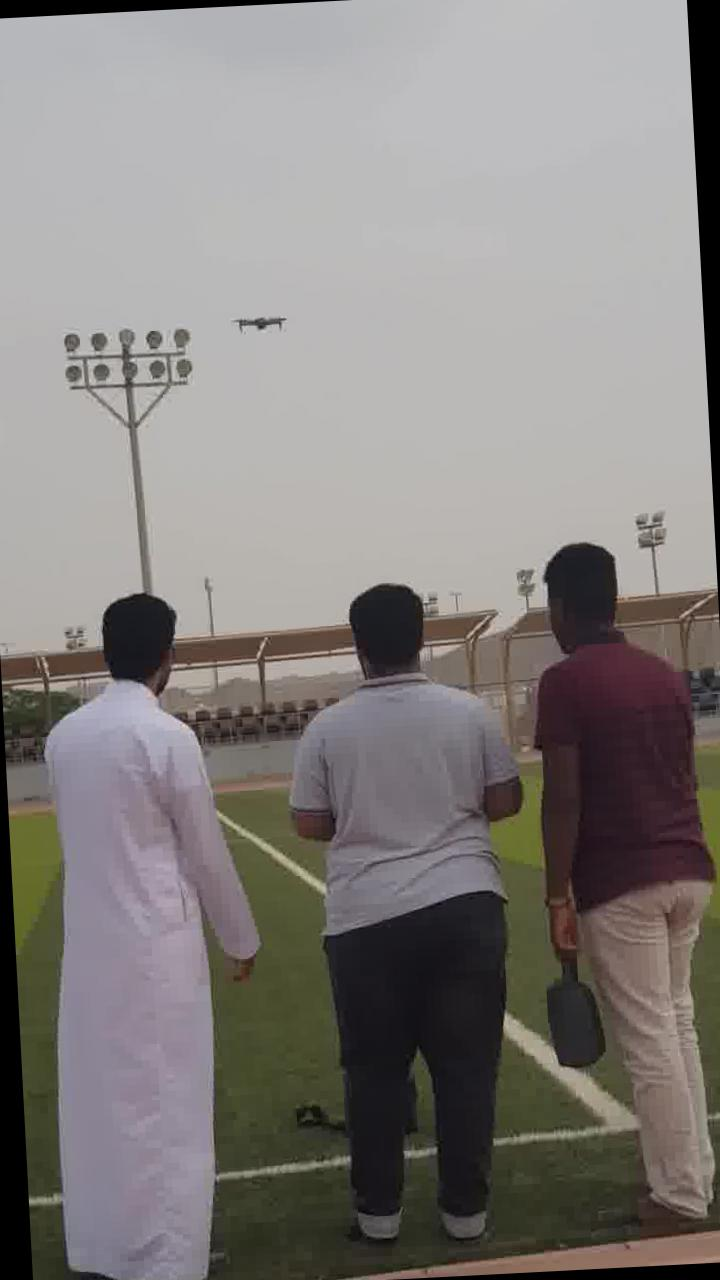drone: (220, 293, 300, 342)
